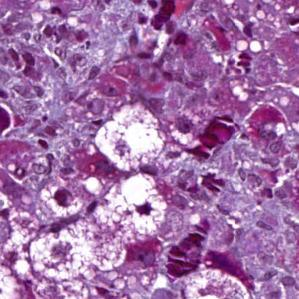ballooning: (94, 102, 168, 175), (101, 171, 168, 244)
